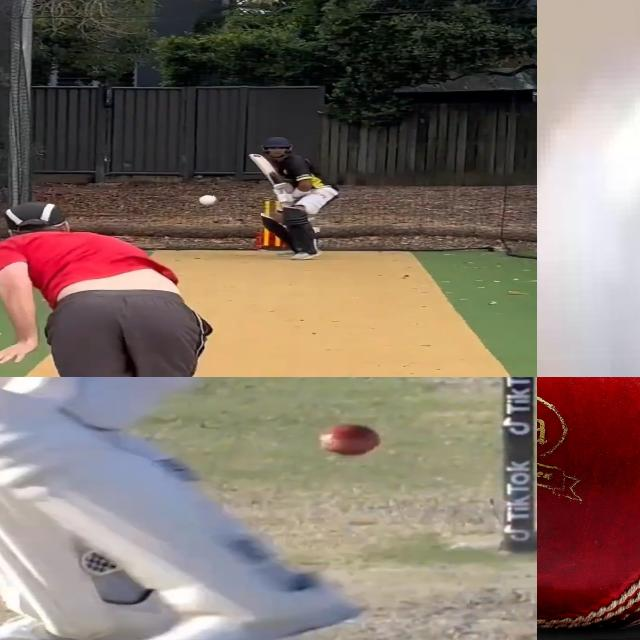Cricket ball: (537, 46, 640, 377), (537, 377, 640, 640), (314, 423, 386, 458), (196, 193, 219, 209)
